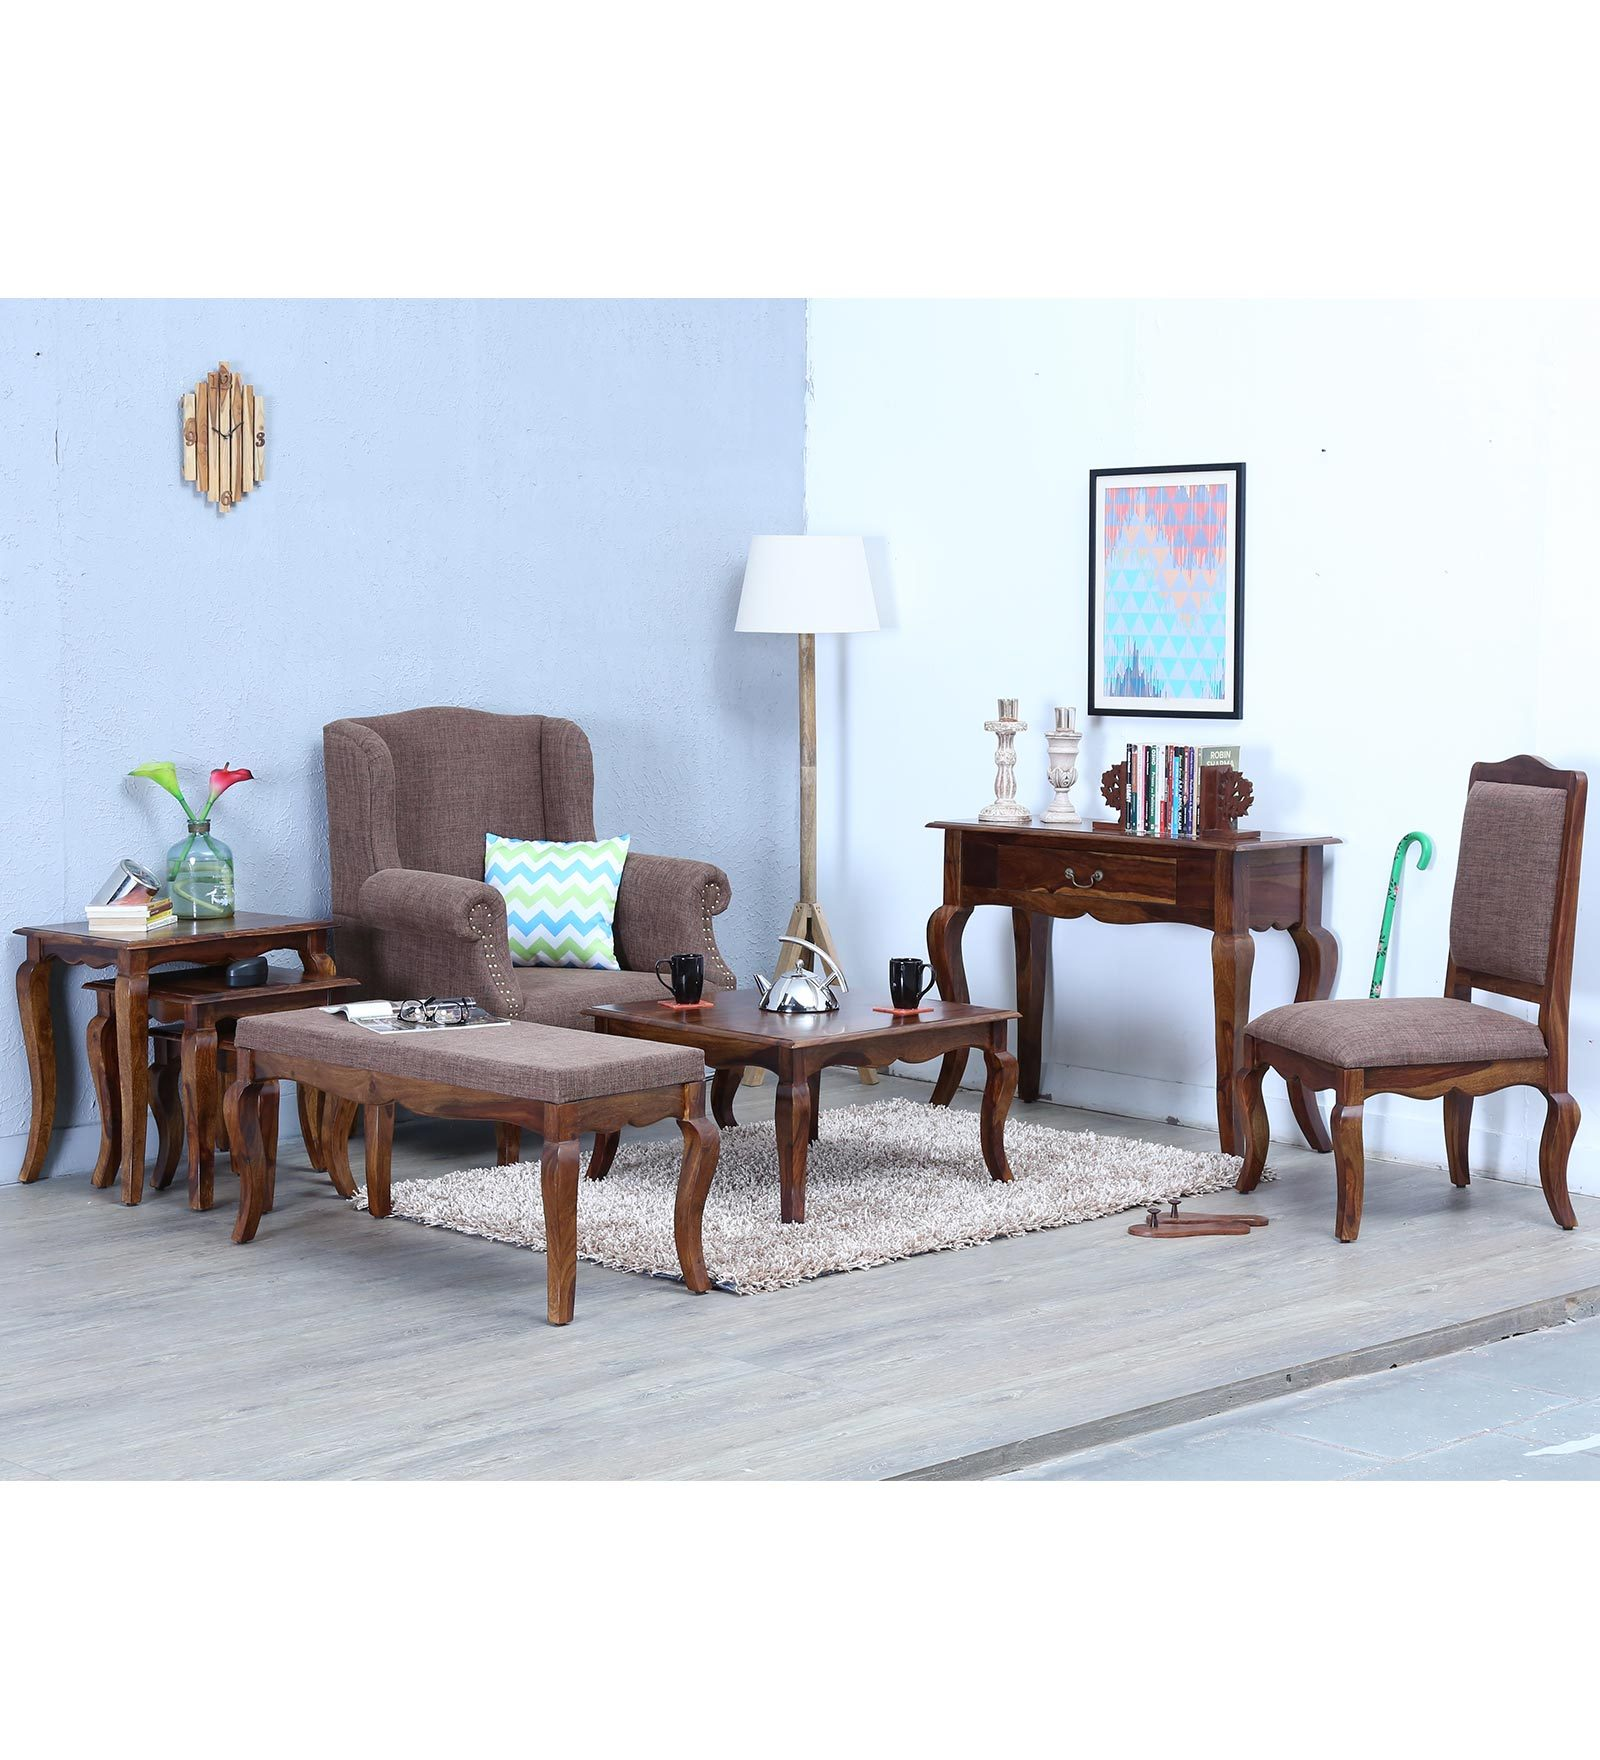Anne Arm Chair in Provincial Teak Finish by Amberville: (1234, 734, 1588, 1263)
